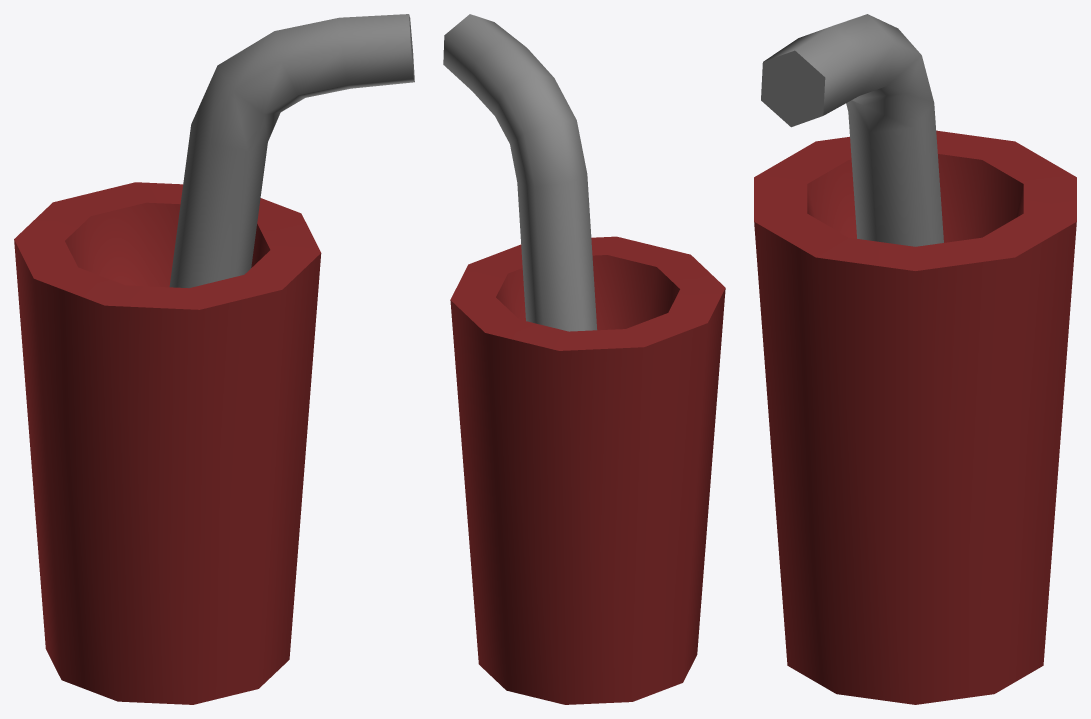
File: glass_02.fbx
3 renders of one model, left to right at view 1: azimuth 30°, elevation 25°; view 2: azimuth 150°, elevation 25°; view 3: azimuth 270°, elevation 25°, orthographic. The views are drawn at different scales.
Parts seen in each view (by area): view 1: glass_02; view 2: glass_02; view 3: glass_02.
Boxes of the visible parts, x1=… form: glass_02: x1=14, y1=14, x2=414, y2=704; glass_02: x1=443, y1=14, x2=725, y2=704; glass_02: x1=754, y1=14, x2=1076, y2=704.
Size of the model in its own units: 42 by 75.56 by 31.68.
